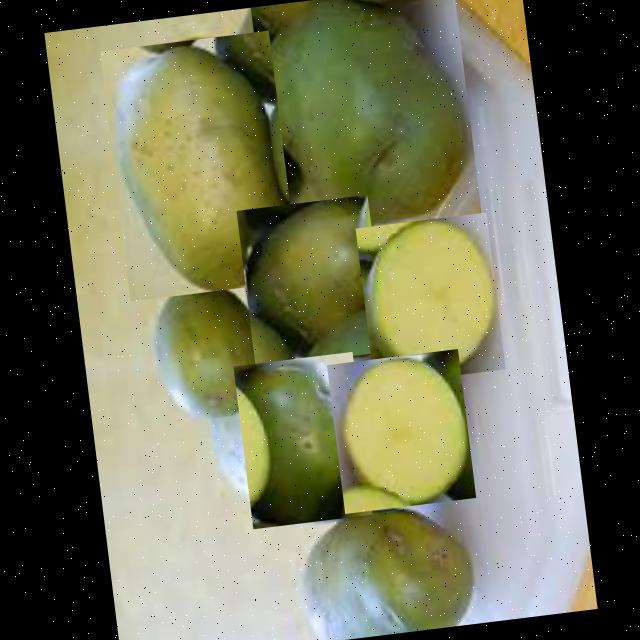Defected potato: (250, 0, 482, 250), (100, 29, 298, 300), (295, 498, 480, 640), (355, 211, 505, 384), (236, 194, 386, 366), (233, 350, 372, 528), (326, 348, 476, 512), (146, 273, 272, 422)
